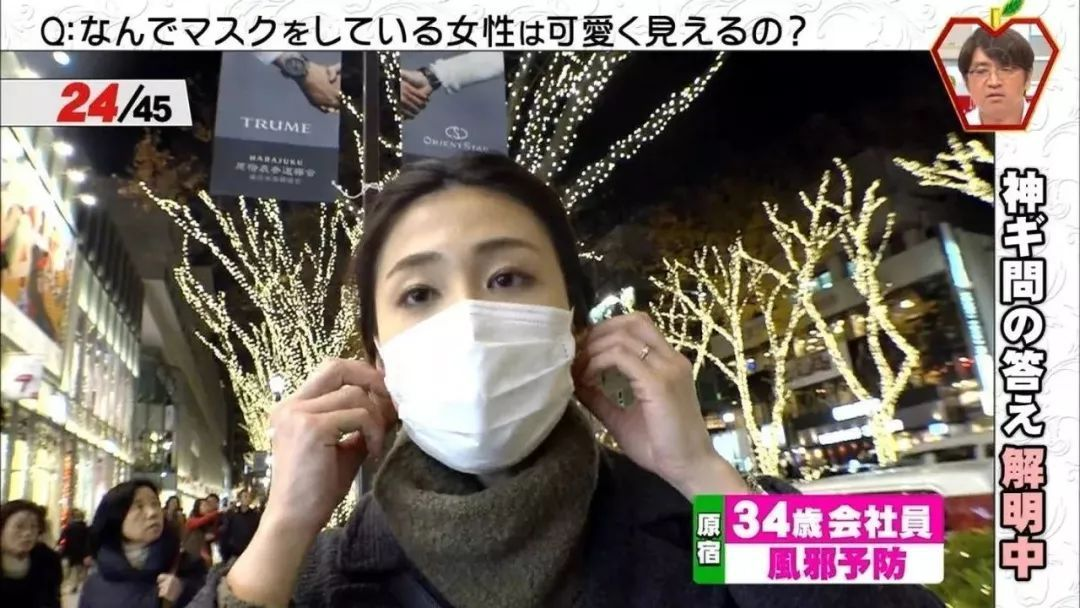mask: (380, 302, 577, 476)
